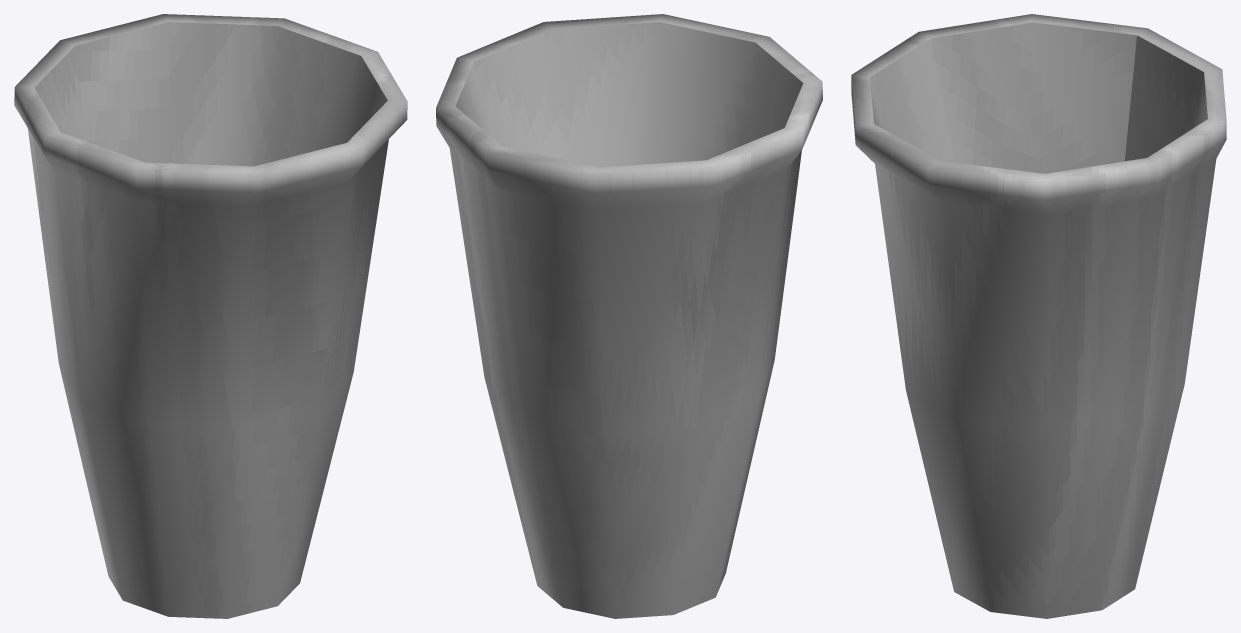
The model's file is H_CocktailMixerDrink.fbx.
The picture shows the model from 3 angles, left to right: view 1: azimuth 30°, elevation 25°; view 2: azimuth 150°, elevation 25°; view 3: azimuth 270°, elevation 25°; orthographic projection.
Parts seen in each view (by area): view 1: CocktailMixer; view 2: CocktailMixer; view 3: CocktailMixer.
Part boxes in pixels (x1,y1,x2,y2): CocktailMixer: (14,14,407,618); CocktailMixer: (436,14,822,618); CocktailMixer: (851,14,1226,618).
Bounding box in the file's own units: 20.42 × 27.96 × 19.64.
